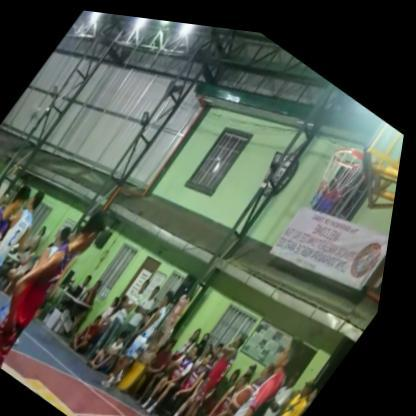rim: (294, 112, 393, 231)
